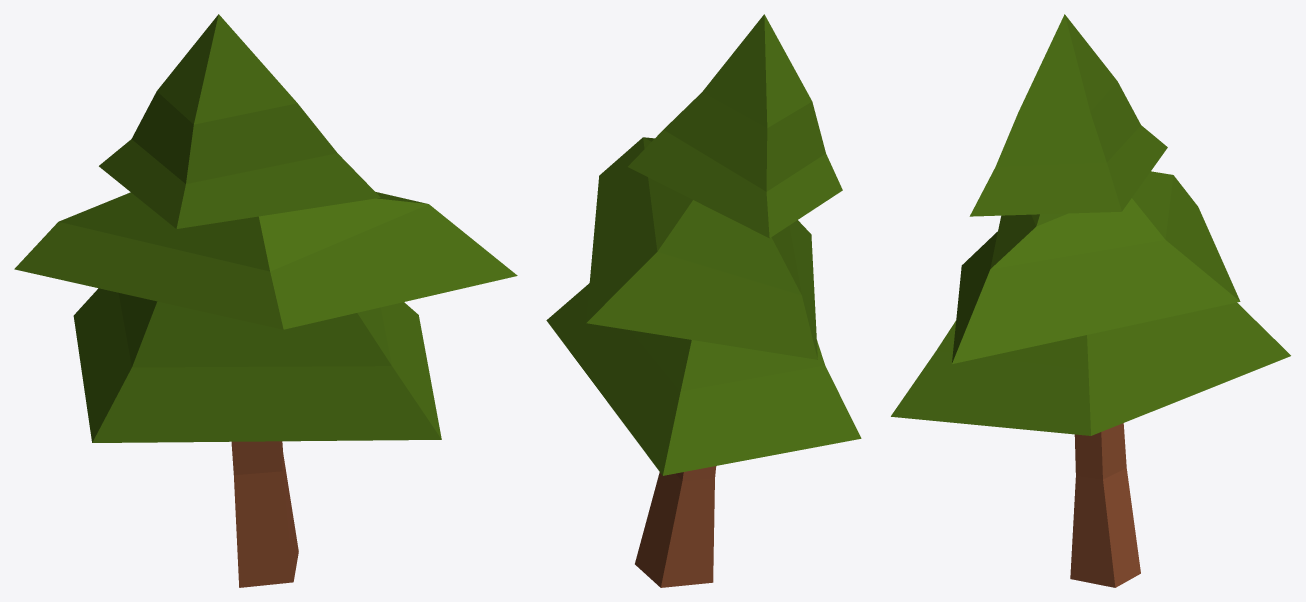
File: three-med.gltf
3 views of the same model, side by side, from view 1: azimuth 30°, elevation 25°; view 2: azimuth 150°, elevation 25°; view 3: azimuth 270°, elevation 25° (orthographic). The views are drawn at different scales.
Parts seen in each view (by area): view 1: three-med; view 2: three-med; view 3: three-med.
Part boxes in pixels (left/top/right/bottom): three-med: left=14, top=14, right=517, bottom=587; three-med: left=546, top=14, right=861, bottom=587; three-med: left=891, top=14, right=1290, bottom=587.
Bounding box in the file's own units: 1.51 × 2.33 × 1.58.
